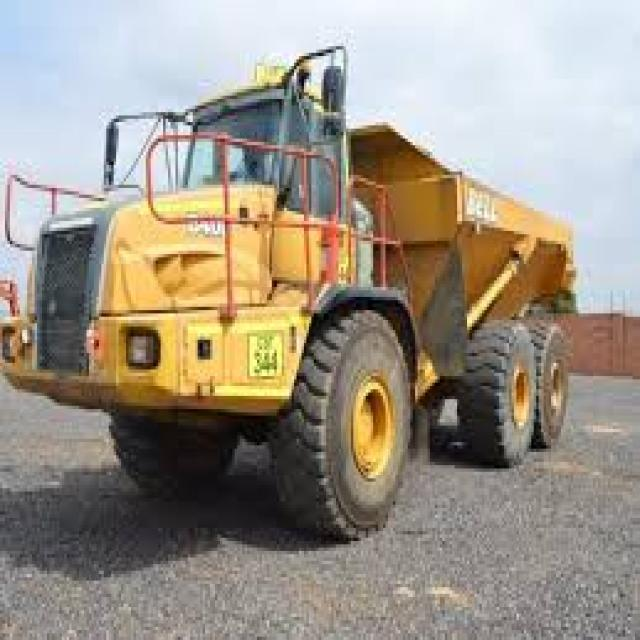dump_truck: (10, 46, 581, 541)
